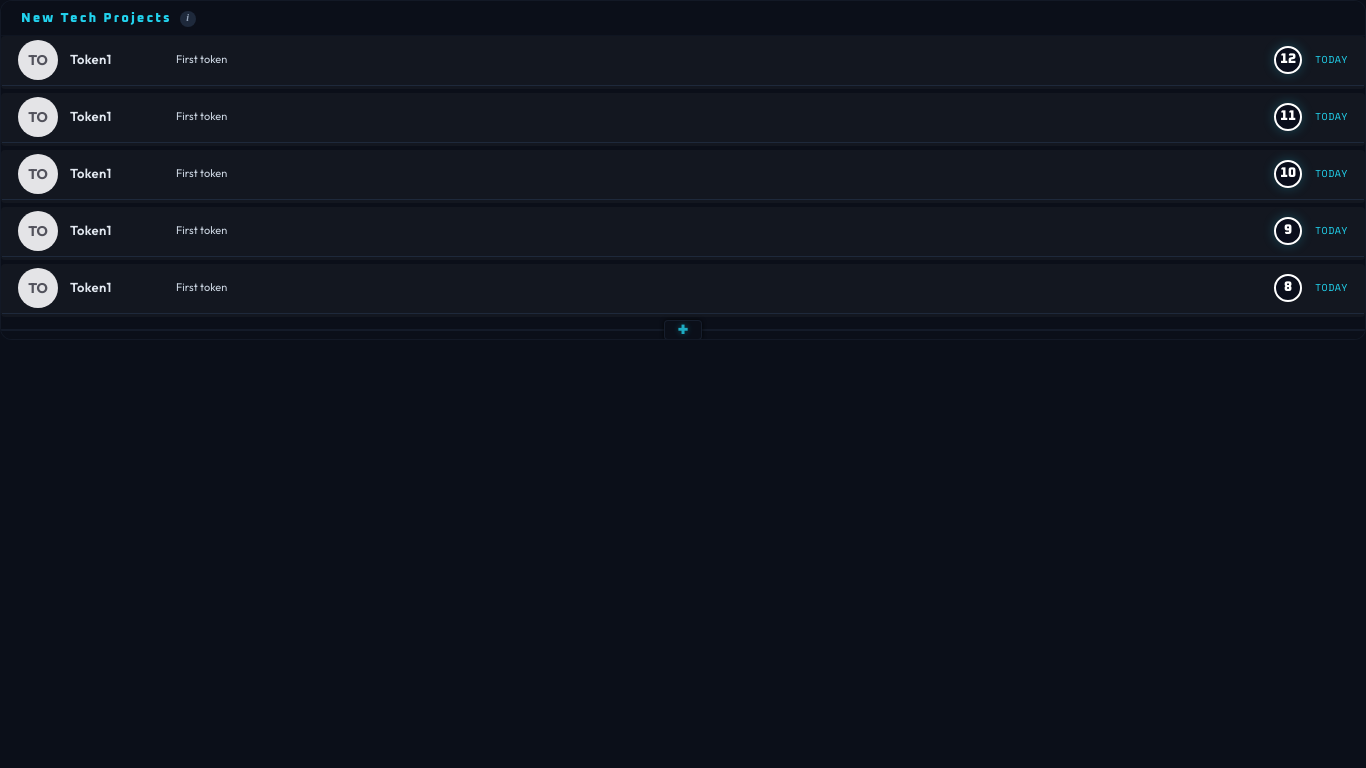
CategoryContainer › reveals more tokens and surface control after clicking scan-deeper
Initially limited to 5, so the scan-deeper control is present
Click the button "+" at (683, 330), box left=673, top=320, right=693, bottom=340
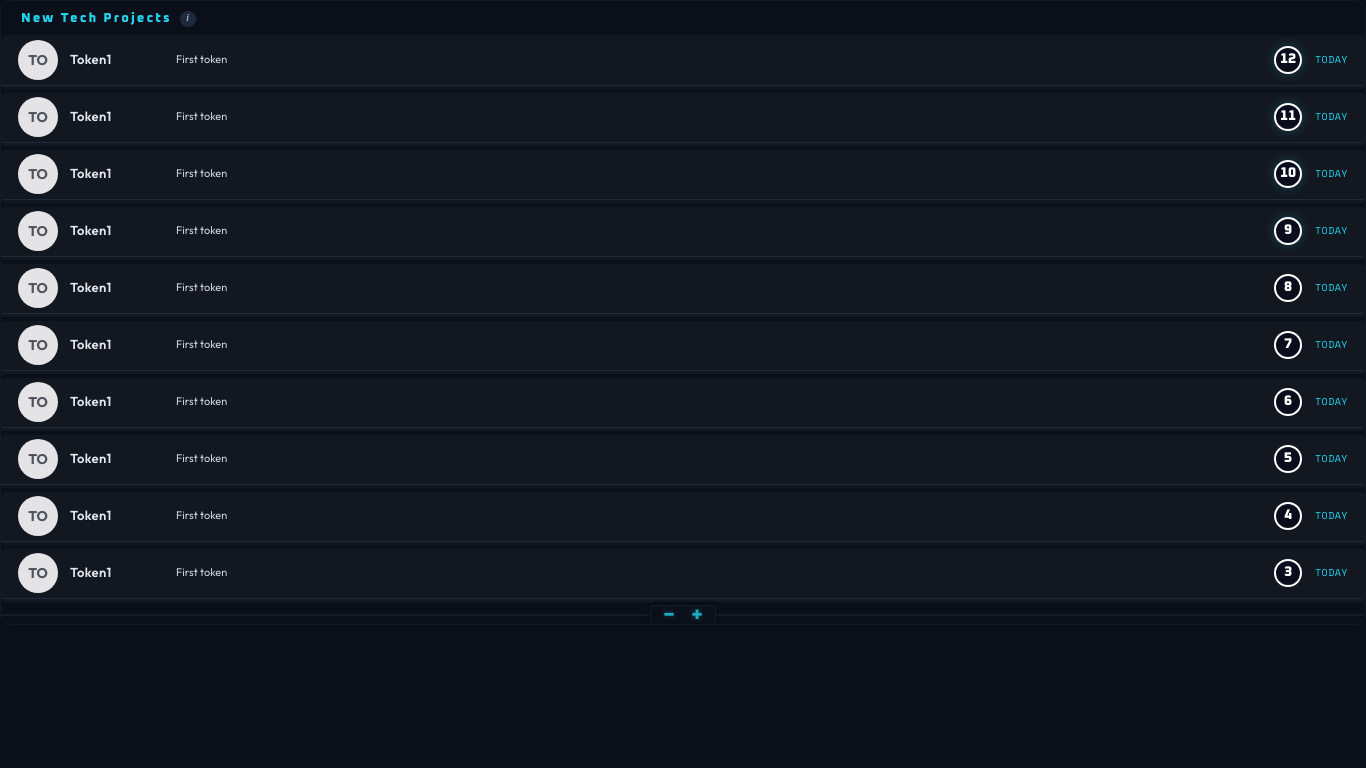
Result: the button "−" is shown at left=659, top=604, right=679, bottom=624
